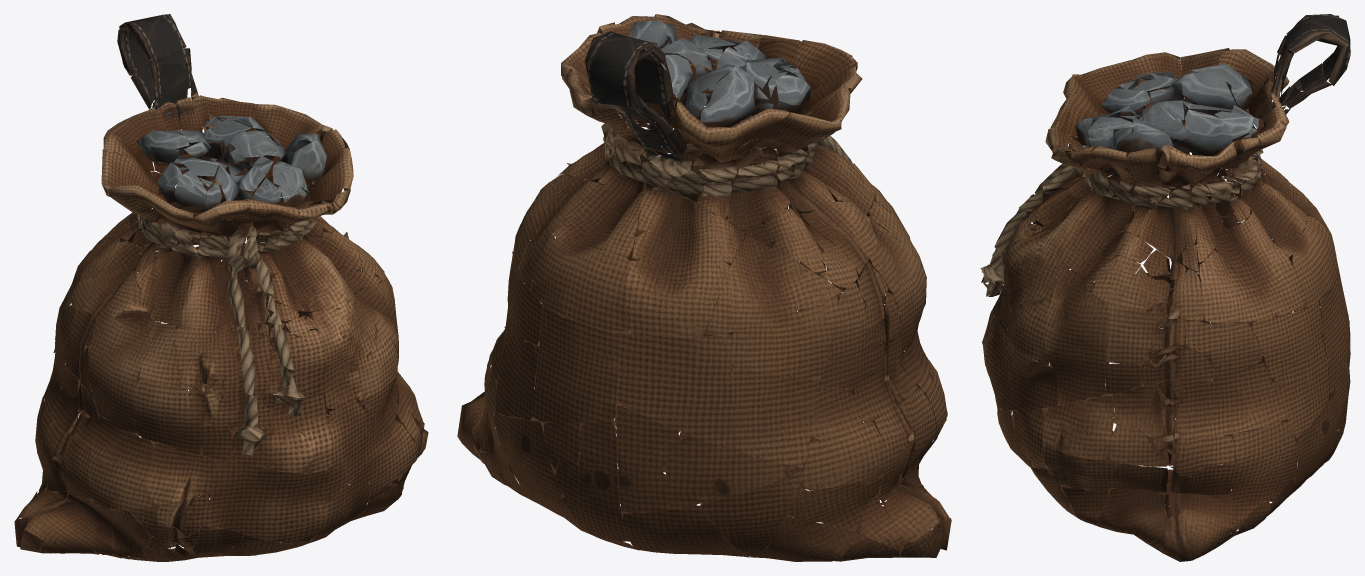
The model's file is lo_sack.glb.
3 renders of one model, left to right at view 1: azimuth 30°, elevation 25°; view 2: azimuth 150°, elevation 25°; view 3: azimuth 270°, elevation 25°, orthographic. The views are drawn at different scales.
Visible parts, largest first — view 1: Mesh_0; view 2: Mesh_0; view 3: Mesh_0.
Part boxes in pixels (<box>): Mesh_0: <box>14,14,428,561</box>; Mesh_0: <box>457,14,951,561</box>; Mesh_0: <box>980,14,1350,561</box>.
Size of the model in its own units: 1.86 by 1.91 by 1.44.
1 material, 1 textured.
